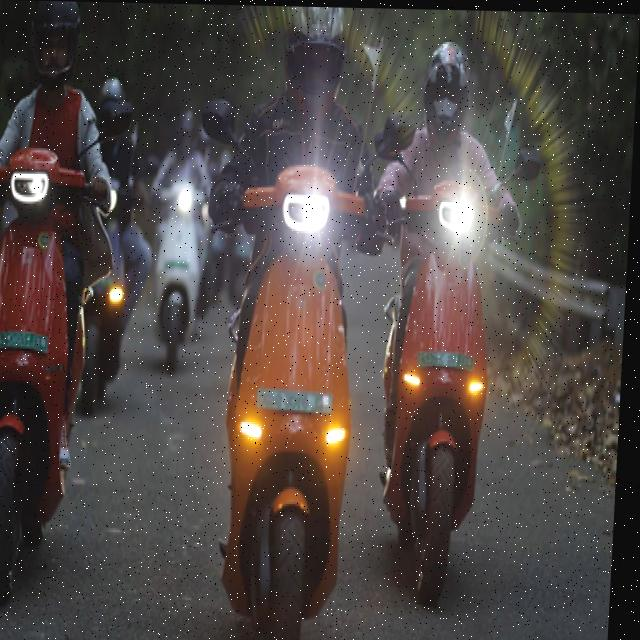plate: (254, 382, 343, 417), (419, 344, 483, 373), (0, 327, 56, 358)
